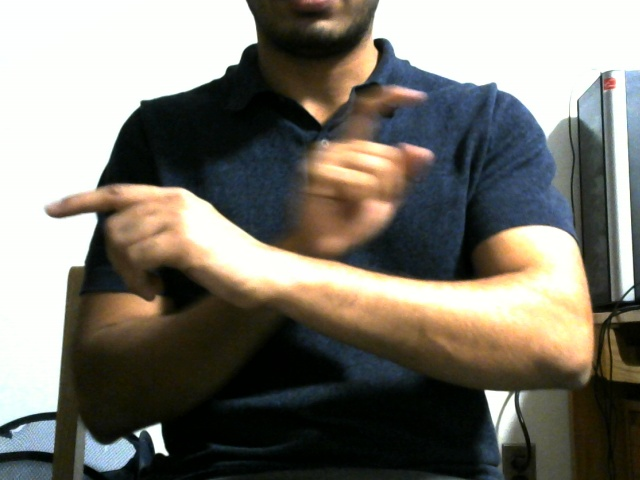call: (7, 60, 480, 353)
